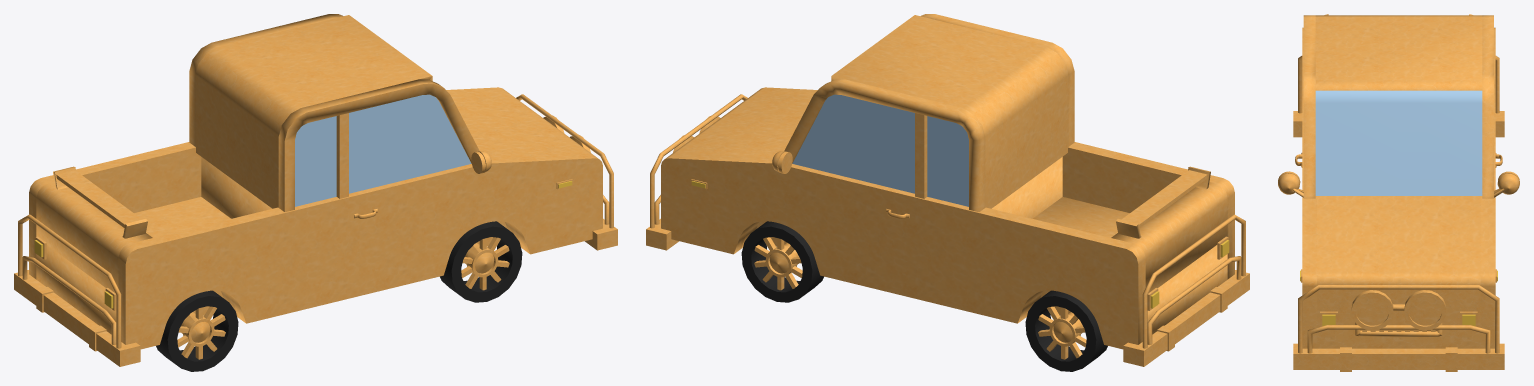
Rendered from PickUp_1.fbx.
3 views of the same model, side by side, from view 1: azimuth 30°, elevation 25°; view 2: azimuth 150°, elevation 25°; view 3: azimuth 270°, elevation 25° (orthographic).
Parts seen in each view (by area): view 1: Pickup.001, Roof, Glass, Front, Pickup, Back.001, Frame.002, Back, Tire.001, Tire.003, Rack.001, Frame (+9 smaller); view 2: Pickup, Roof, Glass, Front, Pickup.001, Back.001, Frame, Back, Tire, Tire.002, Rack.001, Frame.002 (+9 smaller); view 3: Front, Glass, Roof, Rack, Pickup, Pickup.001, Frame.002, Frame, Frame.014, Light.001, Light, Frame.015 (+7 smaller).
Boxes of the visible parts, x1=… form: Pickup.001: x1=118, y1=153, x2=602, y2=349; Roof: x1=195, y1=15, x2=432, y2=208; Glass: x1=295, y1=94, x2=471, y2=206; Front: x1=201, y1=93, x2=591, y2=248; Pickup: x1=29, y1=87, x2=509, y2=279; Back.001: x1=36, y1=182, x2=152, y2=292; Frame.002: x1=278, y1=79, x2=479, y2=212; Back: x1=36, y1=197, x2=238, y2=334; Tire.001: x1=440, y1=221, x2=522, y2=302; Tire.003: x1=156, y1=290, x2=238, y2=371; Rack.001: x1=14, y1=270, x2=140, y2=366; Frame: x1=189, y1=14, x2=343, y2=146; Pickup: x1=661, y1=153, x2=1145, y2=349; Roof: x1=831, y1=15, x2=1068, y2=208; Glass: x1=792, y1=94, x2=968, y2=206; Front: x1=672, y1=93, x2=1062, y2=248; Pickup.001: x1=754, y1=87, x2=1234, y2=279; Back.001: x1=1111, y1=182, x2=1227, y2=292; Frame: x1=784, y1=79, x2=985, y2=212; Back: x1=1025, y1=197, x2=1227, y2=334; Tire: x1=741, y1=221, x2=823, y2=302; Tire.002: x1=1025, y1=290, x2=1107, y2=371; Rack.001: x1=1123, y1=270, x2=1249, y2=366; Frame.002: x1=920, y1=14, x2=1074, y2=146; Front: x1=1317, y1=196, x2=1480, y2=348; Glass: x1=1315, y1=90, x2=1482, y2=195; Roof: x1=1315, y1=15, x2=1482, y2=90; Rack: x1=1293, y1=343, x2=1504, y2=369; Pickup: x1=1480, y1=27, x2=1495, y2=348; Pickup.001: x1=1302, y1=27, x2=1316, y2=348; Frame.002: x1=1303, y1=15, x2=1315, y2=198; Frame: x1=1482, y1=15, x2=1493, y2=198; Frame.014: x1=1298, y1=285, x2=1499, y2=353; Light.001: x1=1351, y1=290, x2=1393, y2=330; Light: x1=1404, y1=290, x2=1445, y2=330; Frame.015: x1=1307, y1=325, x2=1490, y2=353.
Bounding box in the file's own units: 487 × 215 × 203.
